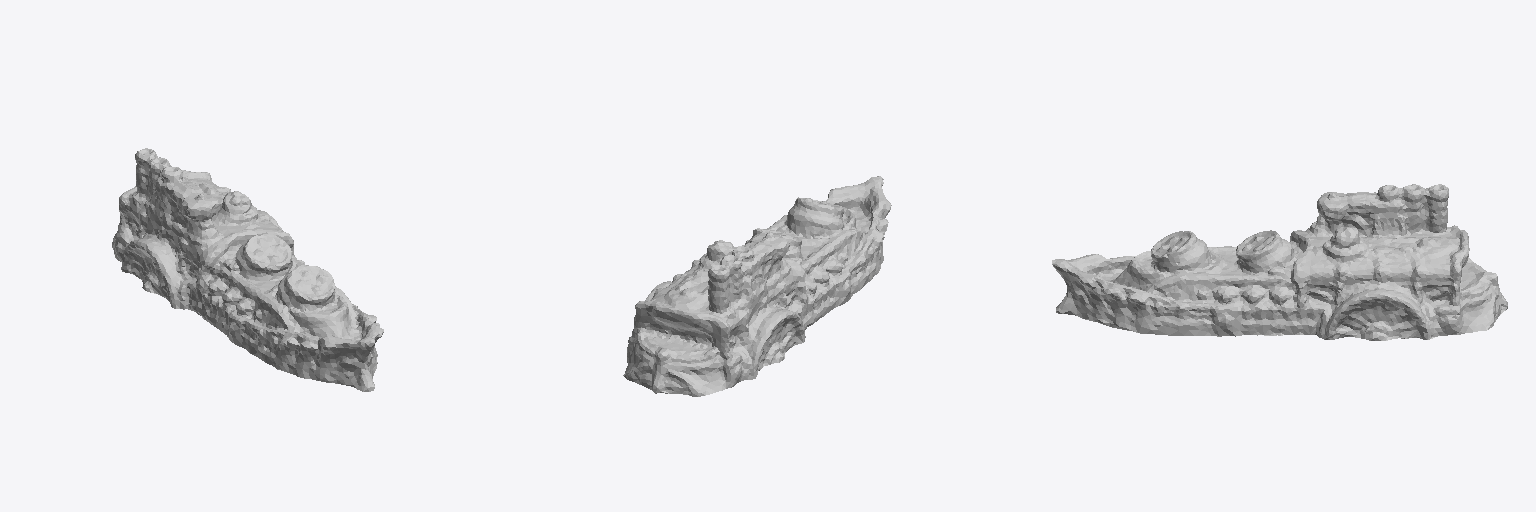
Rendered from Washington_m.obj.
The picture shows the model from 3 angles: view 1: azimuth 30°, elevation 25°; view 2: azimuth 150°, elevation 25°; view 3: azimuth 270°, elevation 25°; orthographic projection.
Parts seen in each view (by area): view 1: 1_May_2023.002; view 2: 1_May_2023.002; view 3: 1_May_2023.002.
Part boxes in pixels (x1,y1,x2,y2): 1_May_2023.002: (112,148,383,391); 1_May_2023.002: (623,176,891,396); 1_May_2023.002: (1052,184,1507,340).
Size of the model in its own units: 1.21 by 0.9835 by 3.74.